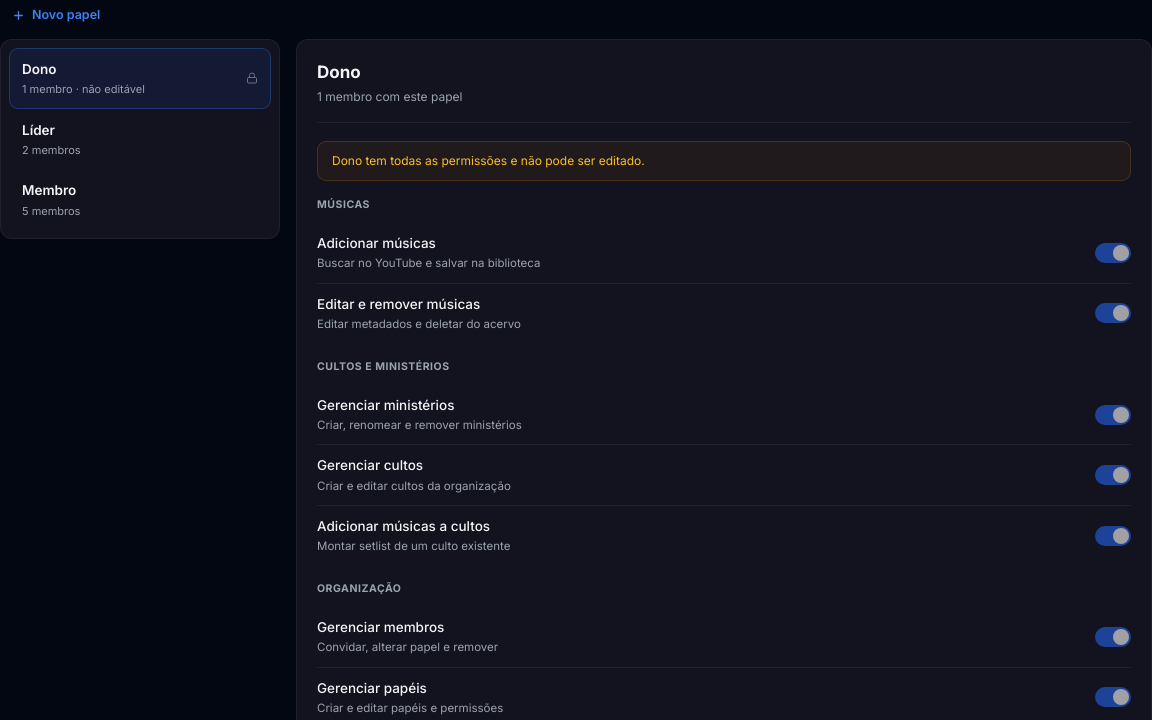
Test: OrgRoles › botão "Novo papel" exibe campo de entrada
Click the button "Novo papel" at (56, 15), box x1=0 y1=0 x2=112 y2=31
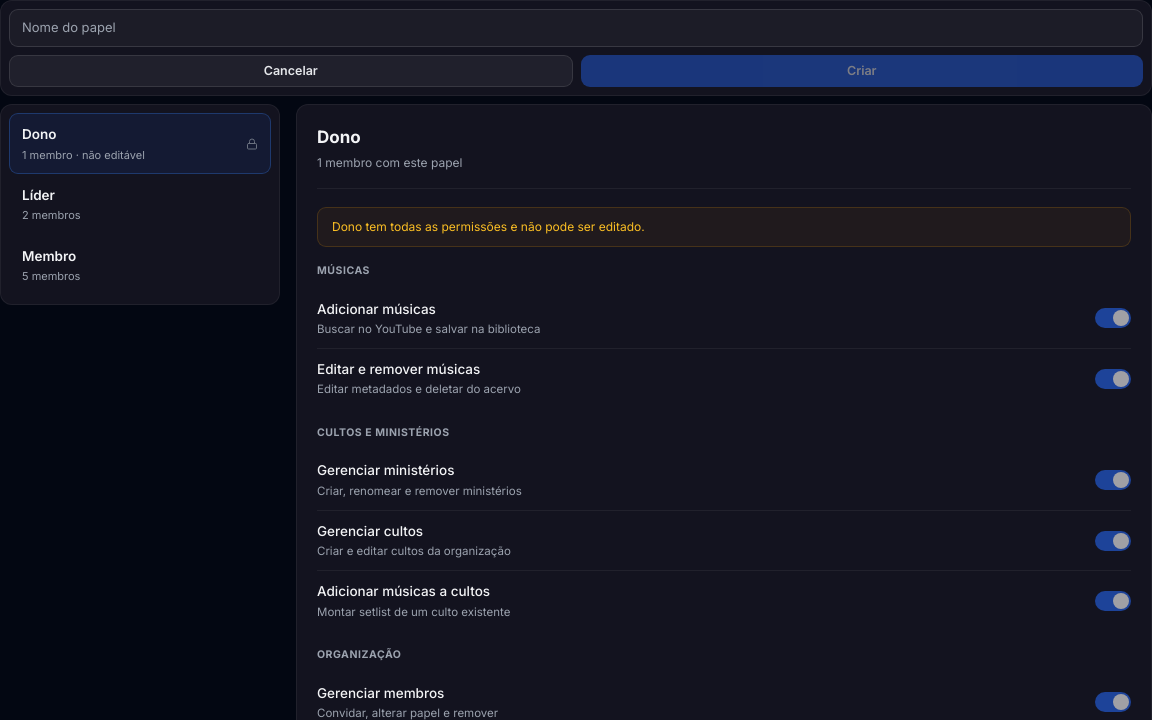
Now the field with placeholder "Nome do papel" is shown, box x1=9 y1=9 x2=1143 y2=46
